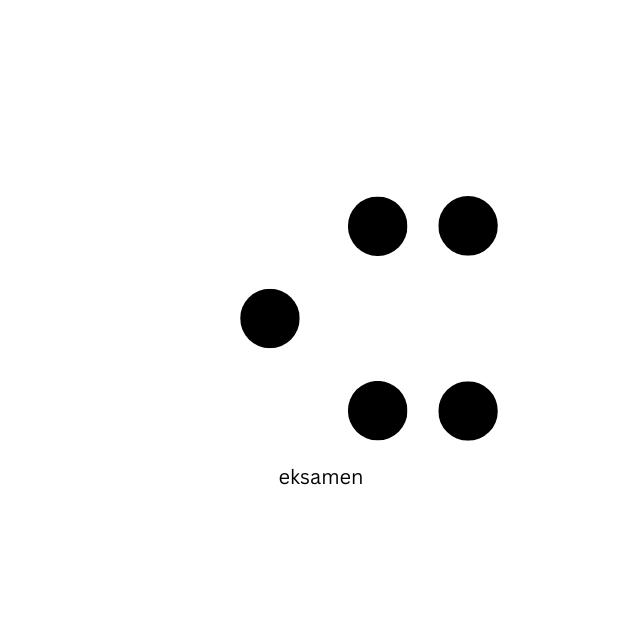dot_5: (148, 195, 300, 442)
two_cell_alphabet_eksamen: (347, 195, 499, 442)
